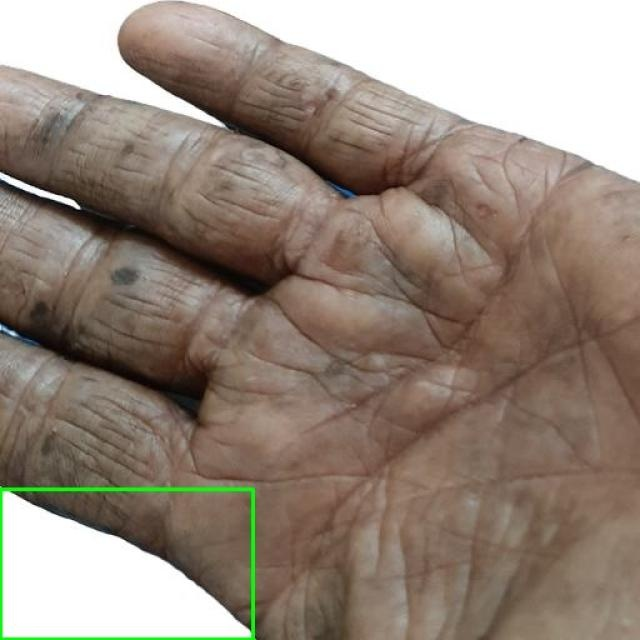Eczema: (0, 489, 252, 639)
